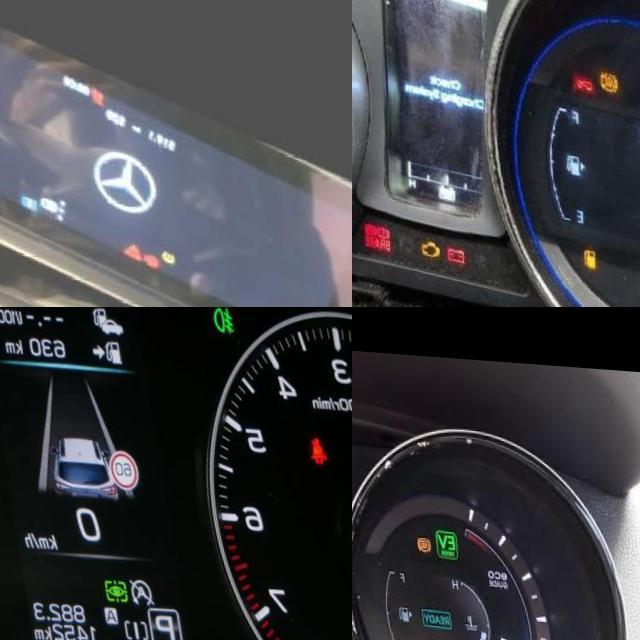Seat Belt: (297, 427, 320, 459)
